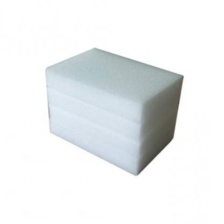foam_box: (39, 42, 189, 178)
